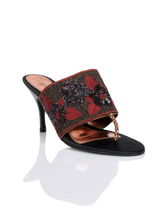shoes: (20, 69, 151, 160)
